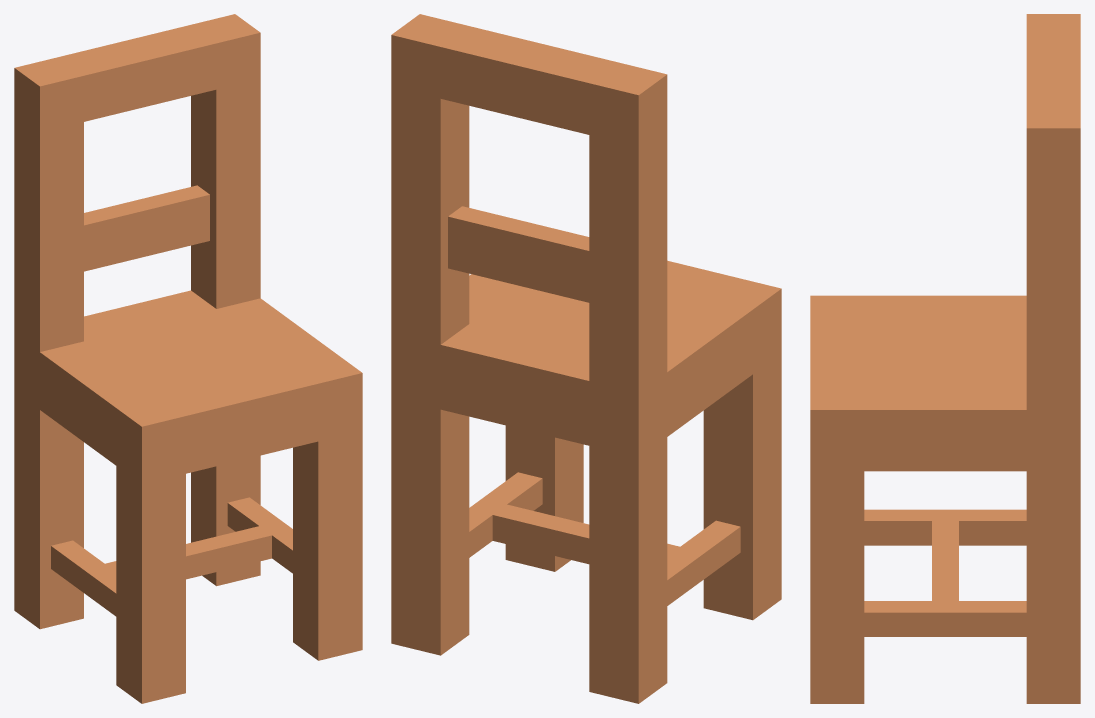
The model's file is Chair.glb.
3 renders of one model, left to right at view 1: azimuth 30°, elevation 25°; view 2: azimuth 150°, elevation 25°; view 3: azimuth 270°, elevation 25°, orthographic. The views are drawn at different scales.
Visible parts, largest first — view 1: chair(Clone); view 2: chair(Clone); view 3: chair(Clone).
Part boxes in pixels (box(x1,y1,x2,y2)): chair(Clone): box(14, 14, 362, 703); chair(Clone): box(391, 14, 781, 703); chair(Clone): box(810, 14, 1080, 703).
Bounding box in the file's own units: 0.2 × 0.47 × 0.2.
